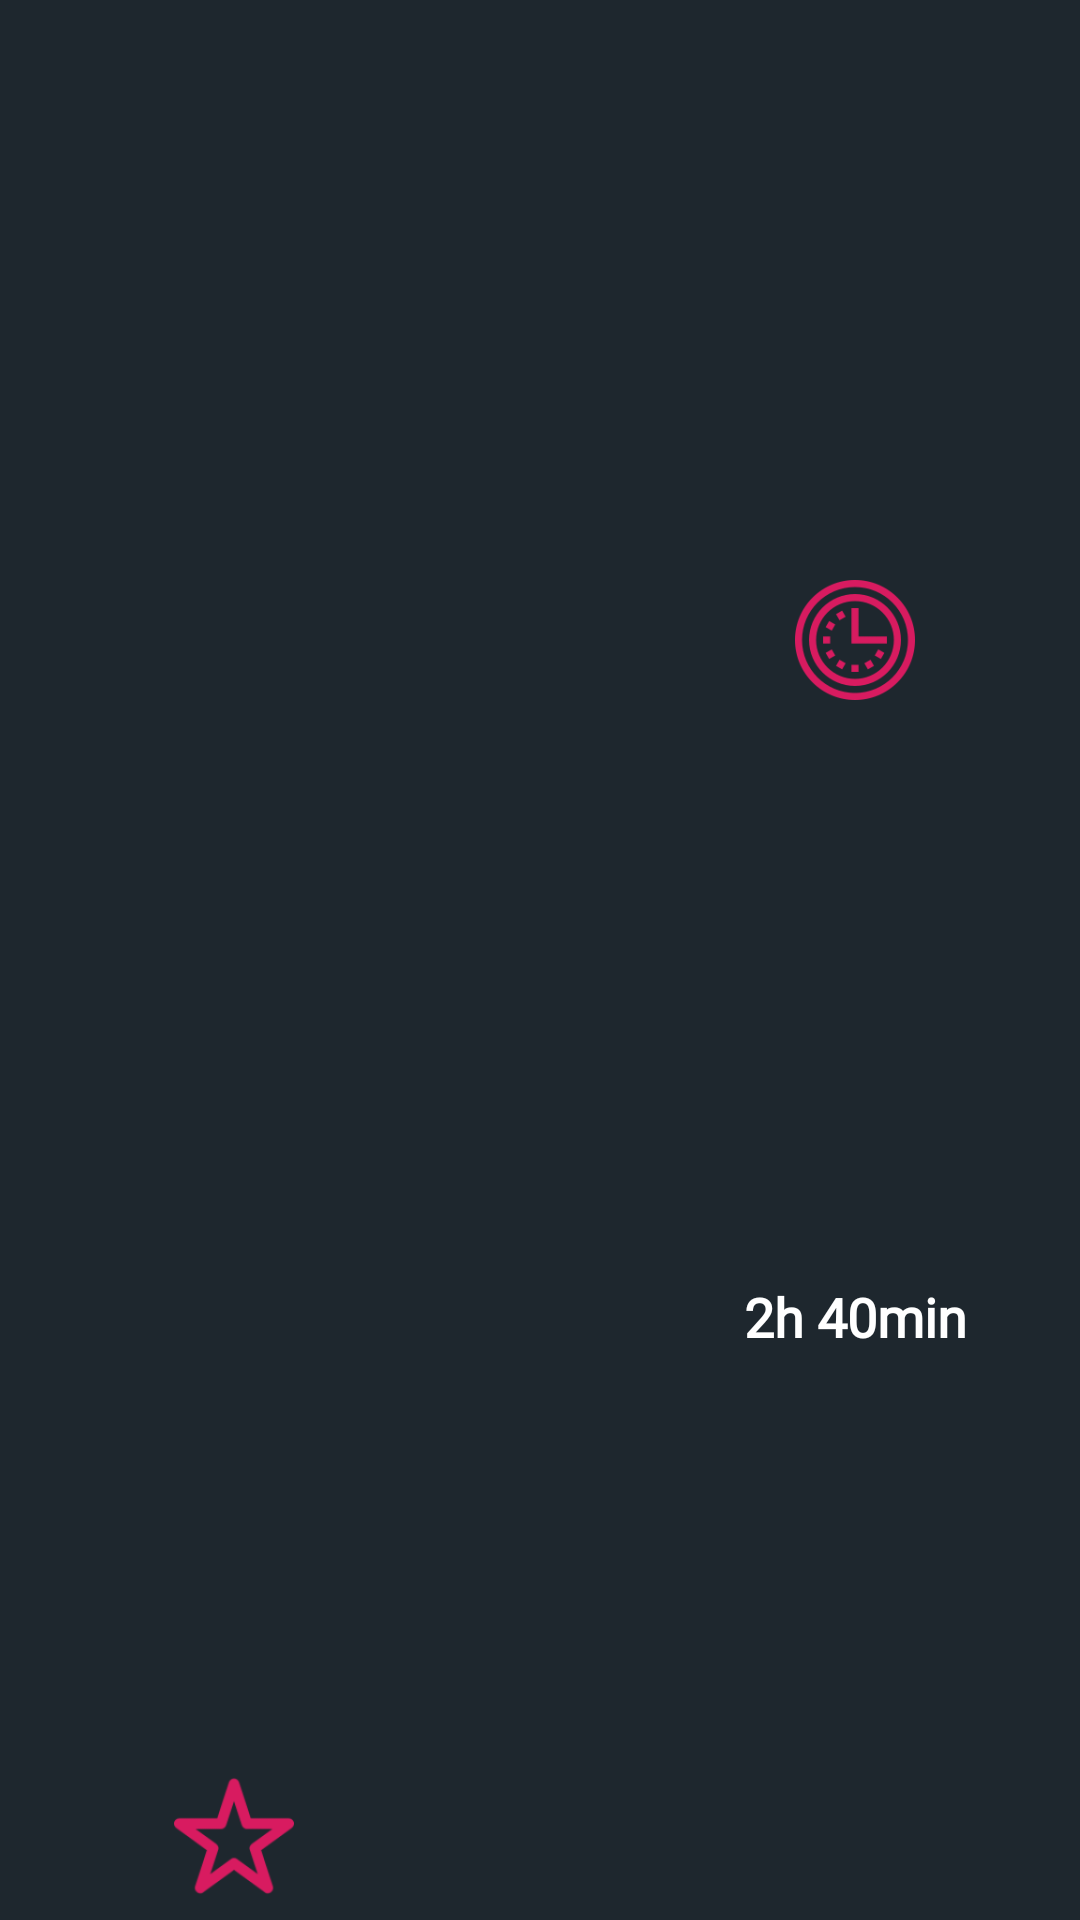

Named icons in this screenshot (1080 x 1920) and their bounding boxes, (x1, y1, x2, y2):
duration: (795, 580, 915, 700)
star detail: (174, 1778, 294, 1894)
